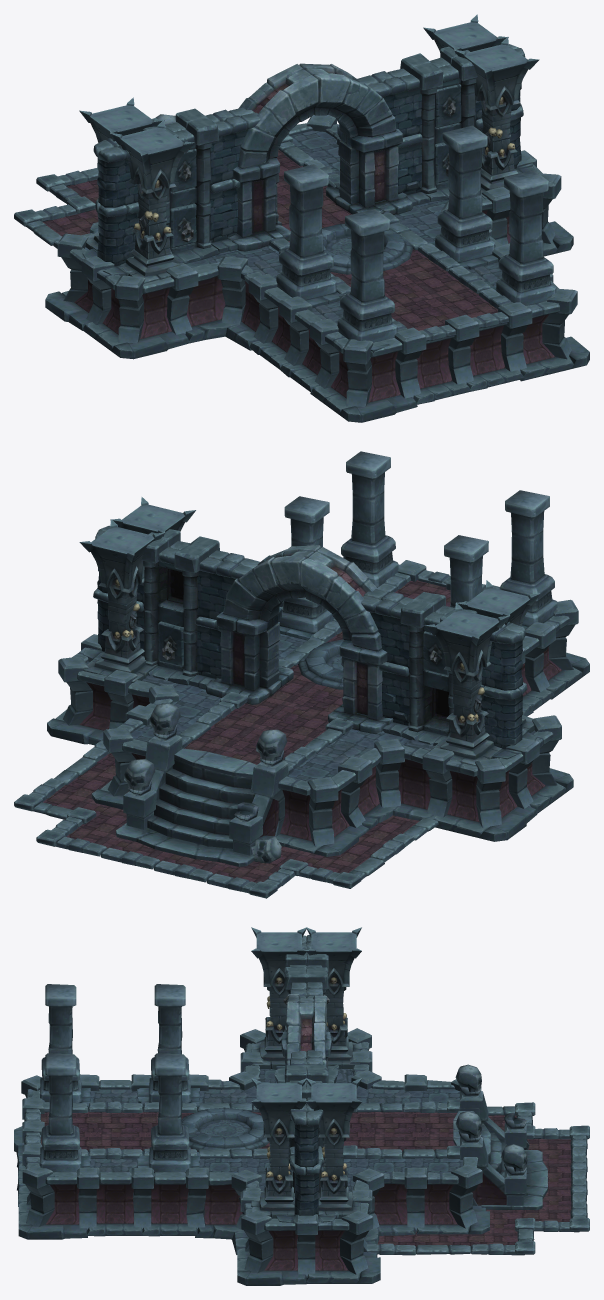
File: dungeon.glb
3 renders of one model, top to bottom at view 1: azimuth 30°, elevation 25°; view 2: azimuth 150°, elevation 25°; view 3: azimuth 270°, elevation 25°, orthographic. The views are drawn at different scales.
Parts seen in each view (by area): view 1: walls_dungeon_mat3_0, floor1_dungeon_floor_mat_2_0, floor2_dungeon_floor_1_mat_0, floor_ring; view 2: walls_dungeon_mat3_0, floor1_dungeon_floor_mat_2_0, floor2_dungeon_floor_1_mat_0, floor_ring; view 3: walls_dungeon_mat3_0, floor1_dungeon_floor_mat_2_0, floor2_dungeon_floor_1_mat_0, floor_ring.
Part boxes in pixels (box(x1,y1,x2,y2)): walls_dungeon_mat3_0: box(14, 14, 589, 422); floor1_dungeon_floor_mat_2_0: box(42, 149, 497, 330); floor2_dungeon_floor_1_mat_0: box(84, 130, 502, 323); floor_ring: box(322, 223, 412, 274); walls_dungeon_mat3_0: box(14, 451, 589, 898); floor1_dungeon_floor_mat_2_0: box(43, 580, 450, 882); floor2_dungeon_floor_1_mat_0: box(86, 633, 535, 781); floor_ring: box(298, 639, 343, 689); walls_dungeon_mat3_0: box(14, 927, 589, 1285); floor1_dungeon_floor_mat_2_0: box(41, 1111, 571, 1247); floor2_dungeon_floor_1_mat_0: box(90, 1069, 462, 1191); floor_ring: box(182, 1107, 269, 1150).
Bounding box in the file's own units: 17.42 × 7.42 × 21.08.
Materials: 3 (3 with a texture image).
